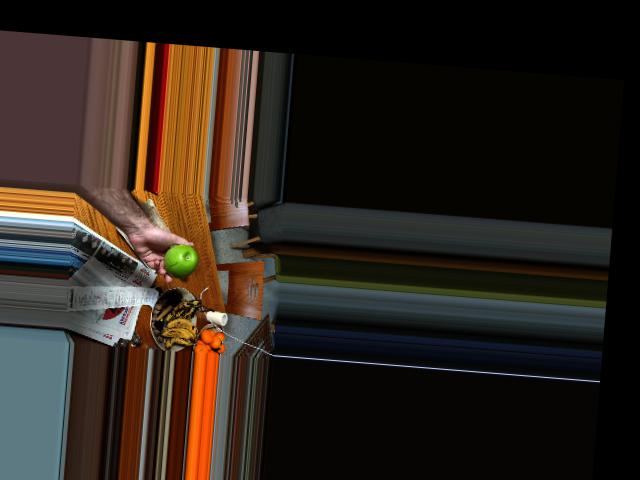apple: (163, 241, 199, 279)
